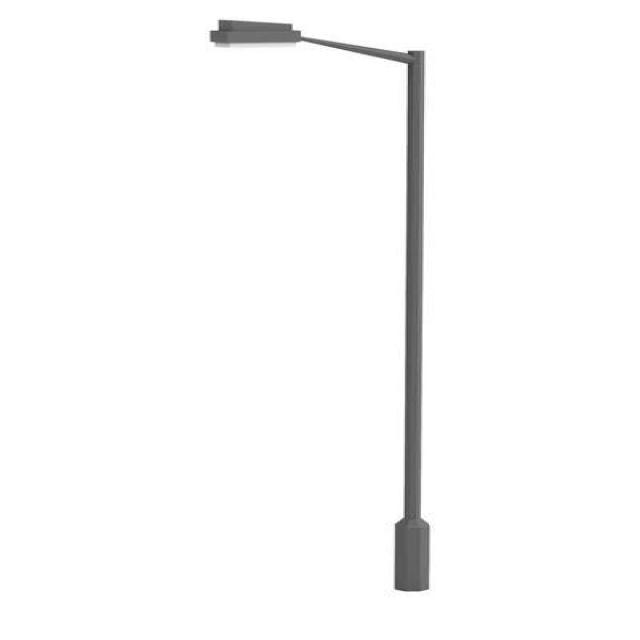Pole: (212, 20, 430, 592)
